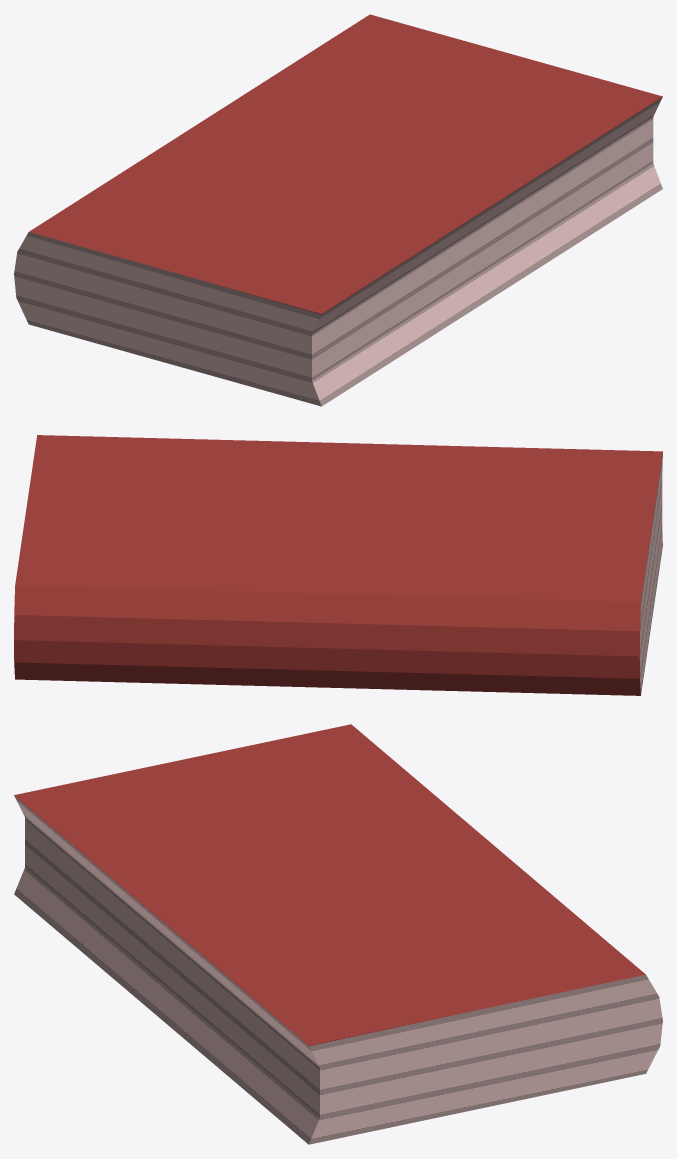
File: Buch_Regal.fbx
The picture shows the model from 3 angles, top to bottom: view 1: azimuth 30°, elevation 25°; view 2: azimuth 150°, elevation 25°; view 3: azimuth 270°, elevation 25°; orthographic projection. The views are drawn at different scales.
Visible parts, largest first — view 1: Cube.007; view 2: Cube.007; view 3: Cube.007.
Boxes of the visible parts, x1,y1,x2,y2 form: Cube.007: [14, 14, 662, 406]; Cube.007: [14, 435, 662, 695]; Cube.007: [14, 724, 662, 1144].
Size of the model in its own units: 93.04 by 13.25 by 78.55.
